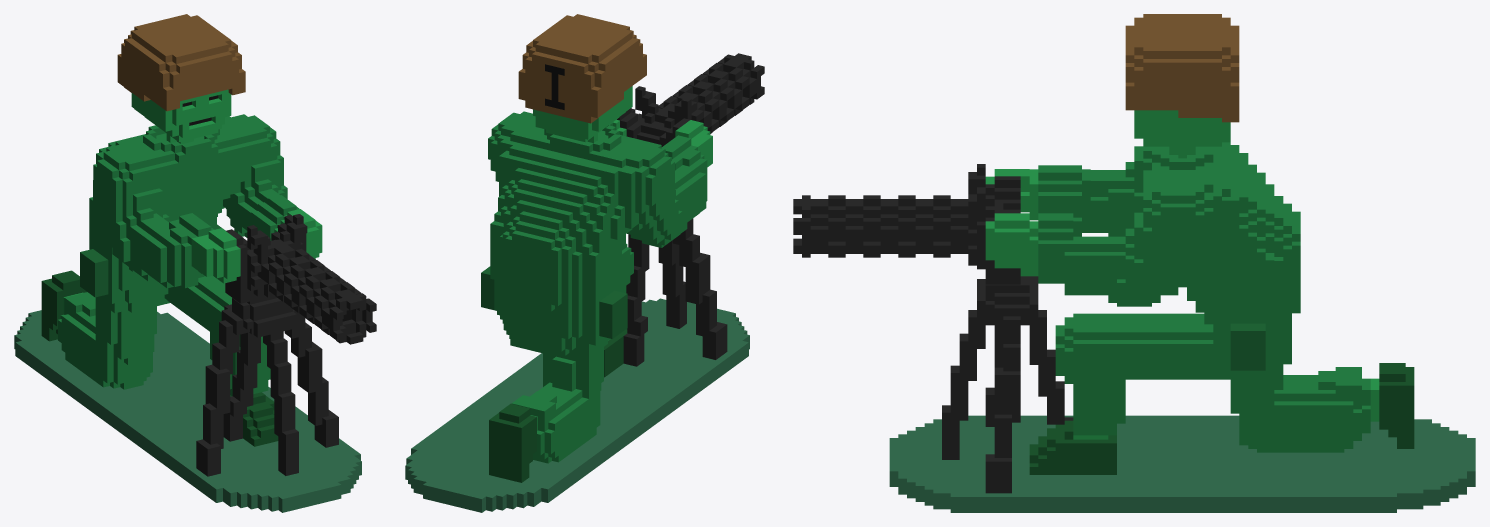
The model's file is machinegun_soldier_LVL1_3.0.obj.
The picture shows the model from 3 angles, left to right: view 1: azimuth 30°, elevation 25°; view 2: azimuth 150°, elevation 25°; view 3: azimuth 270°, elevation 25°; orthographic projection. The views are drawn at different scales.
Bounding box in the file's own units: 2.5 × 5.5 × 7.8.
Materials: 1 (1 with a texture image).
